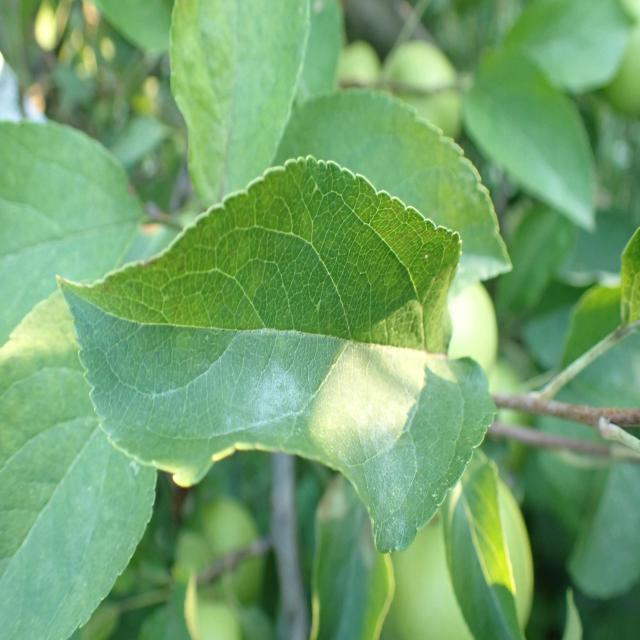Powdery_mildew: (59, 169, 494, 524)
